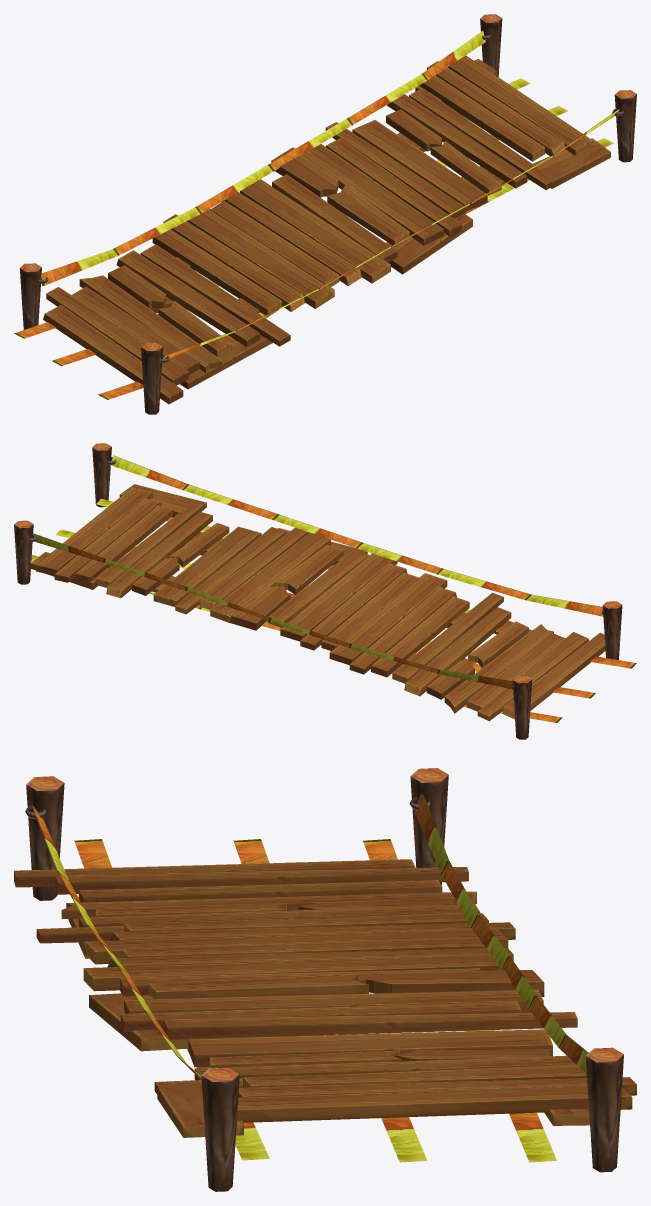
The model's file is qiao_005.FBX.
3 views of the same model, one above another, from view 1: azimuth 30°, elevation 25°; view 2: azimuth 150°, elevation 25°; view 3: azimuth 270°, elevation 25° (orthographic). The views are drawn at different scales.
Visible parts, largest first — view 1: qiao_005, Group003; view 2: qiao_005, Group003; view 3: qiao_005, Group003.
Boxes of the visible parts, bbox=[...] form: qiao_005: bbox=[19, 14, 636, 414]; Group003: bbox=[14, 31, 619, 399]; qiao_005: bbox=[14, 443, 622, 739]; Group003: bbox=[31, 455, 636, 722]; qiao_005: bbox=[14, 768, 636, 1191]; Group003: bbox=[31, 793, 588, 1162].
Size of the model in its own units: 1487 by 379 by 814.
Materials: 2 (2 with a texture image).
